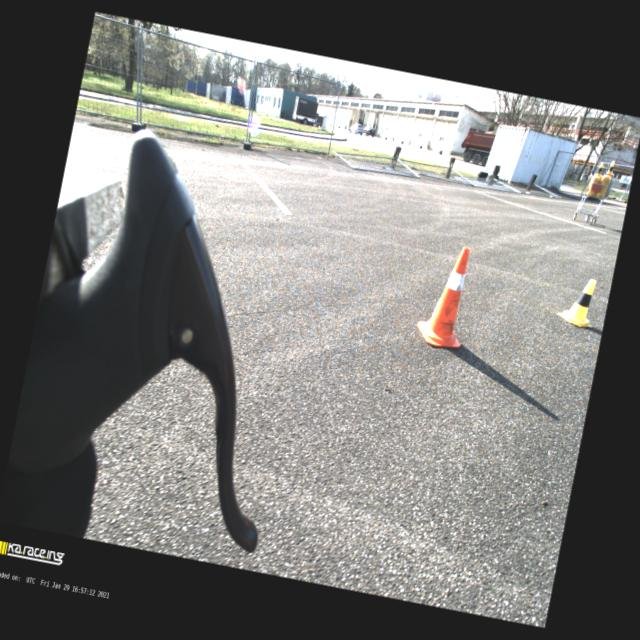large_orange_cone: (414, 239, 479, 352)
yellow_cone: (555, 272, 602, 330), (594, 160, 606, 178), (606, 159, 616, 175)
